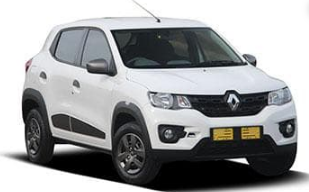car: (21, 17, 298, 185)
